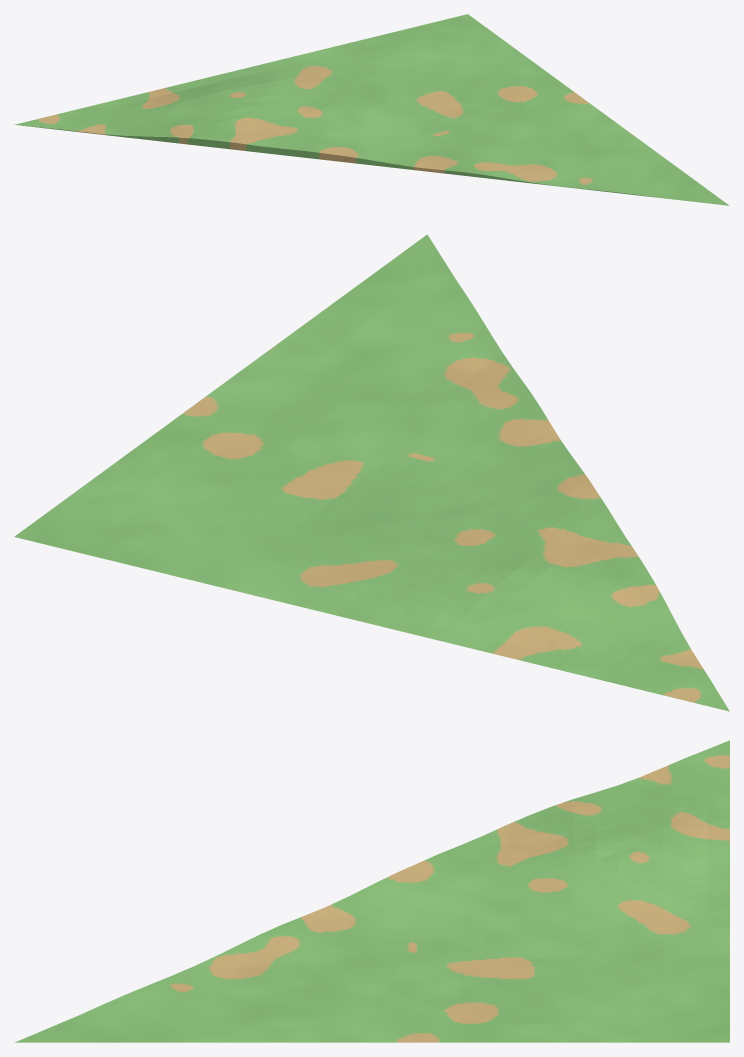
File: Grass_Flat_12_SE.obj
3 views of the same model, one above another, from view 1: azimuth 30°, elevation 25°; view 2: azimuth 150°, elevation 25°; view 3: azimuth 270°, elevation 25° (orthographic). The views are drawn at different scales.
Bounding box in the file's own units: 10 × 0.1937 × 10.
Materials: 1 (1 with a texture image).
